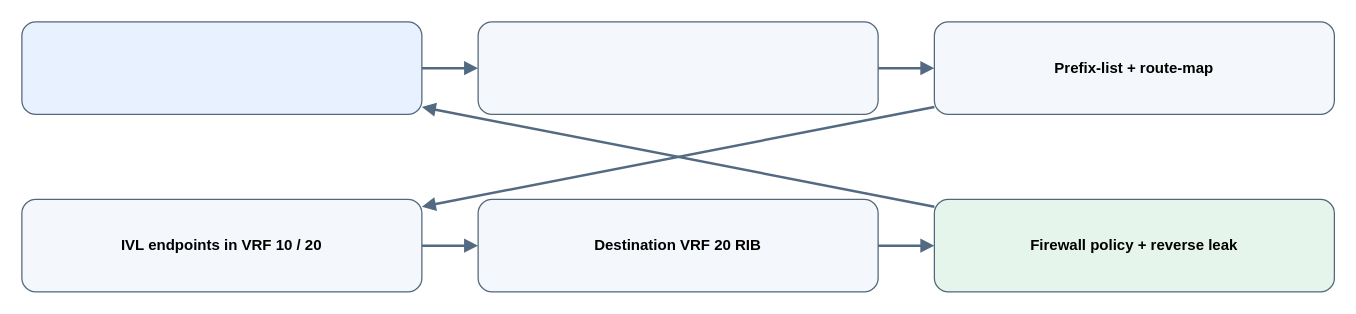
Some shapes in this 1356 by 314 pixel diagram are drawn without their labels. Here are the shapes that lost their labels. From the top down, the centre of each, then its label:
the point at 221,67: Branch A routes in VRF 10
the point at 677,67: Source BGP RIB
